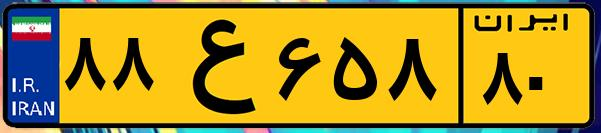0: (525, 38, 570, 115)
5: (330, 28, 385, 110)
6: (270, 28, 330, 110)
8: (385, 28, 445, 110), (57, 26, 110, 100), (475, 38, 525, 113), (110, 28, 158, 98)
ع: (158, 12, 270, 120)
